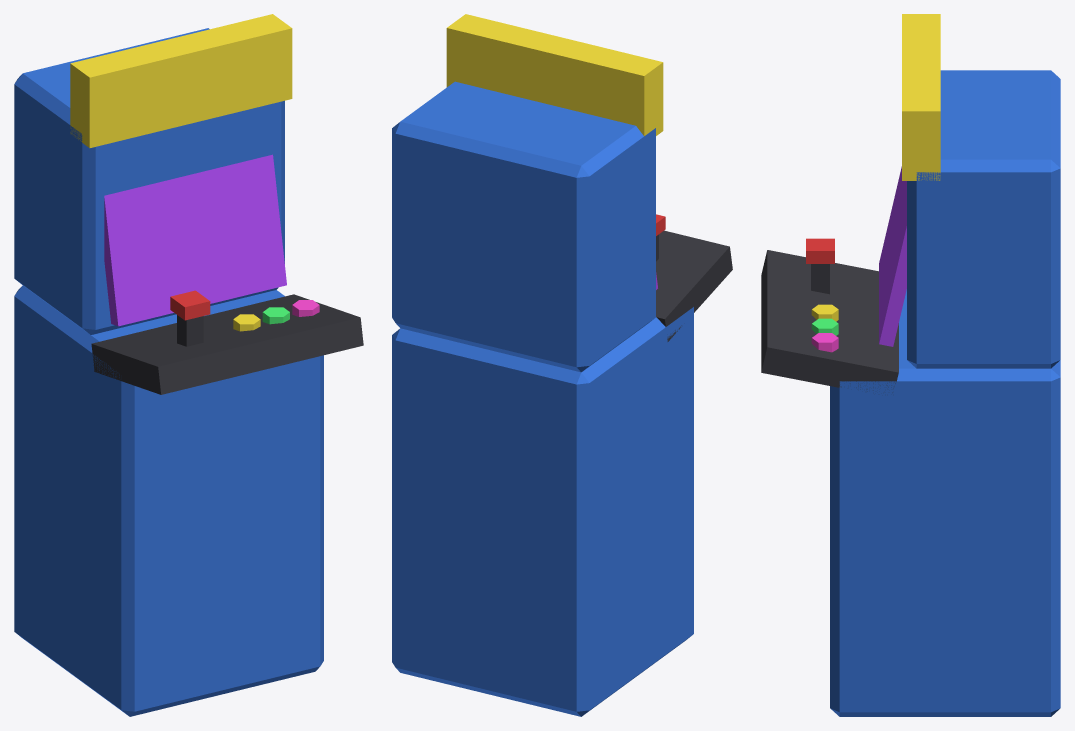
File: ArcadeCabinet.fbx
3 views of the same model, side by side, from view 1: azimuth 30°, elevation 25°; view 2: azimuth 150°, elevation 25°; view 3: azimuth 270°, elevation 25° (orthographic). The views are drawn at different scales.
Parts seen in each view (by area): view 1: ArcadeCabinet; view 2: ArcadeCabinet; view 3: ArcadeCabinet.
Boxes of the visible parts, x1,y1,x2,y2 form: ArcadeCabinet: (14,14,363,716); ArcadeCabinet: (392,14,732,716); ArcadeCabinet: (761,14,1060,716).
Bounding box in the file's own units: 2.4 × 7 × 3.12.
Materials: 1 (1 with a texture image).
